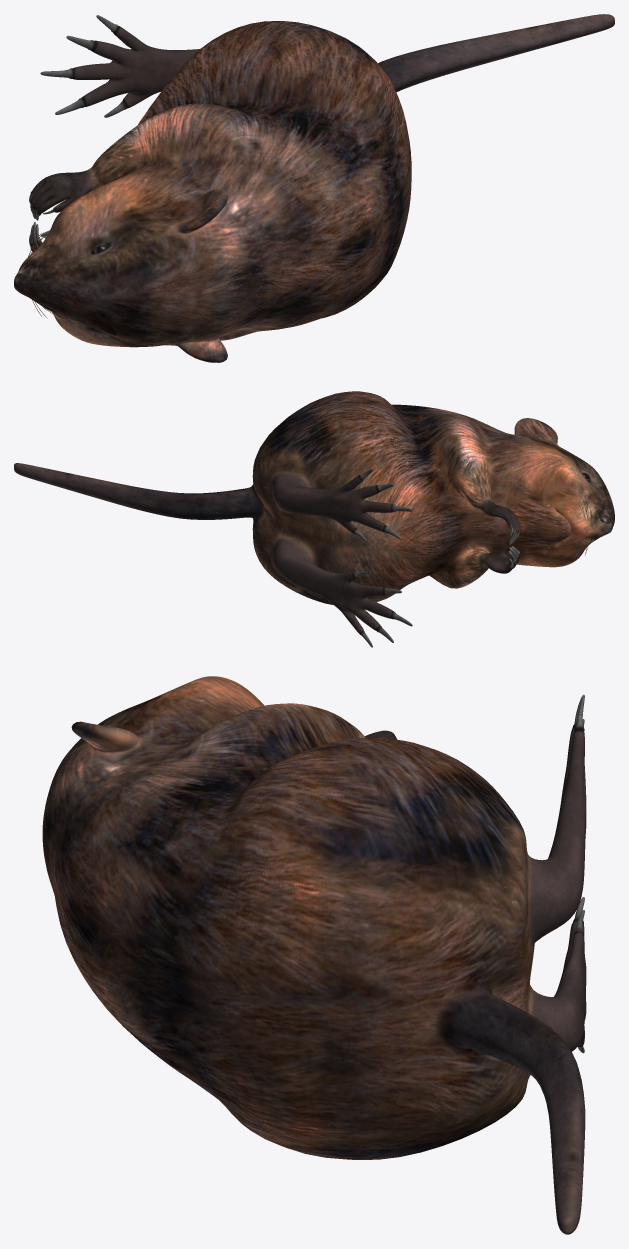
Rendered from 13099_NorthAmericanMuskrat_v1_l2.obj.
3 views of the same model, one above another, from view 1: azimuth 30°, elevation 25°; view 2: azimuth 150°, elevation 25°; view 3: azimuth 270°, elevation 25° (orthographic). The views are drawn at different scales.
Parts seen in each view (by area): view 1: North_American_Muskrat; view 2: North_American_Muskrat; view 3: North_American_Muskrat.
Boxes of the visible parts, box(x1,y1,x2,y2) form: North_American_Muskrat: box(14, 14, 614, 362); North_American_Muskrat: box(14, 391, 614, 647); North_American_Muskrat: box(42, 676, 586, 1234).
Bounding box in the file's own units: 21.25 × 7.75 × 9.79.
2 materials, 1 textured.
